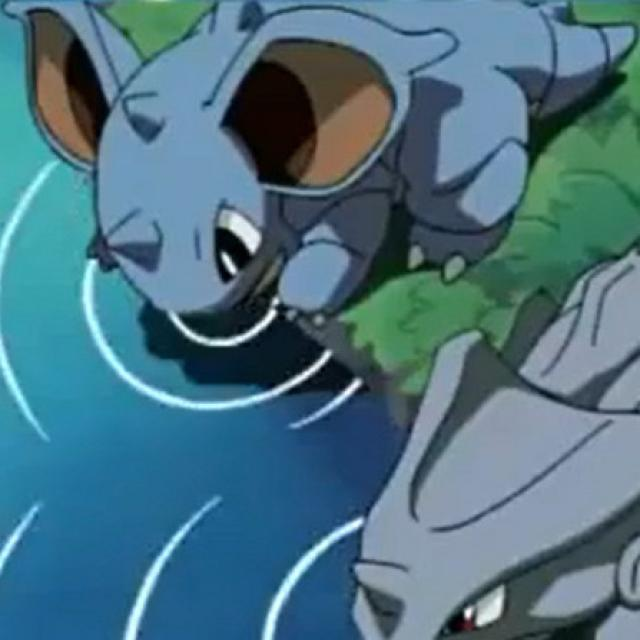Nidoqueen: (12, 10, 530, 322)
